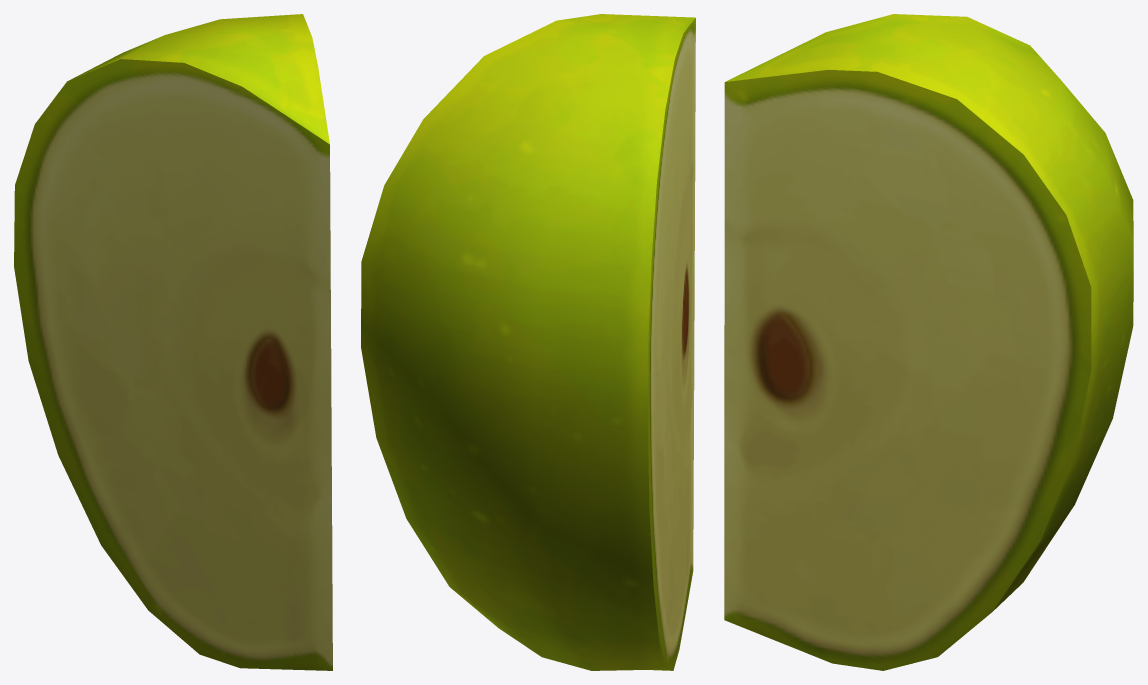
Rendered from SM_AppleGreenSlice.fbx.
The picture shows the model from 3 angles, left to right: view 1: azimuth 30°, elevation 25°; view 2: azimuth 150°, elevation 25°; view 3: azimuth 270°, elevation 25°; orthographic projection. The views are drawn at different scales.
Visible parts, largest first — view 1: SM_AppleGreenSlice; view 2: SM_AppleGreenSlice; view 3: SM_AppleGreenSlice.
Part boxes in pixels (bbox=[...]): SM_AppleGreenSlice: bbox=[14, 14, 332, 670]; SM_AppleGreenSlice: bbox=[361, 14, 695, 670]; SM_AppleGreenSlice: bbox=[724, 14, 1133, 670].
Bounding box in the file's own units: 5.57 × 11.72 × 7.09.
